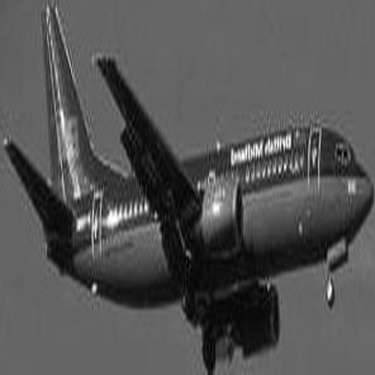airplane: (5, 1, 367, 370)
